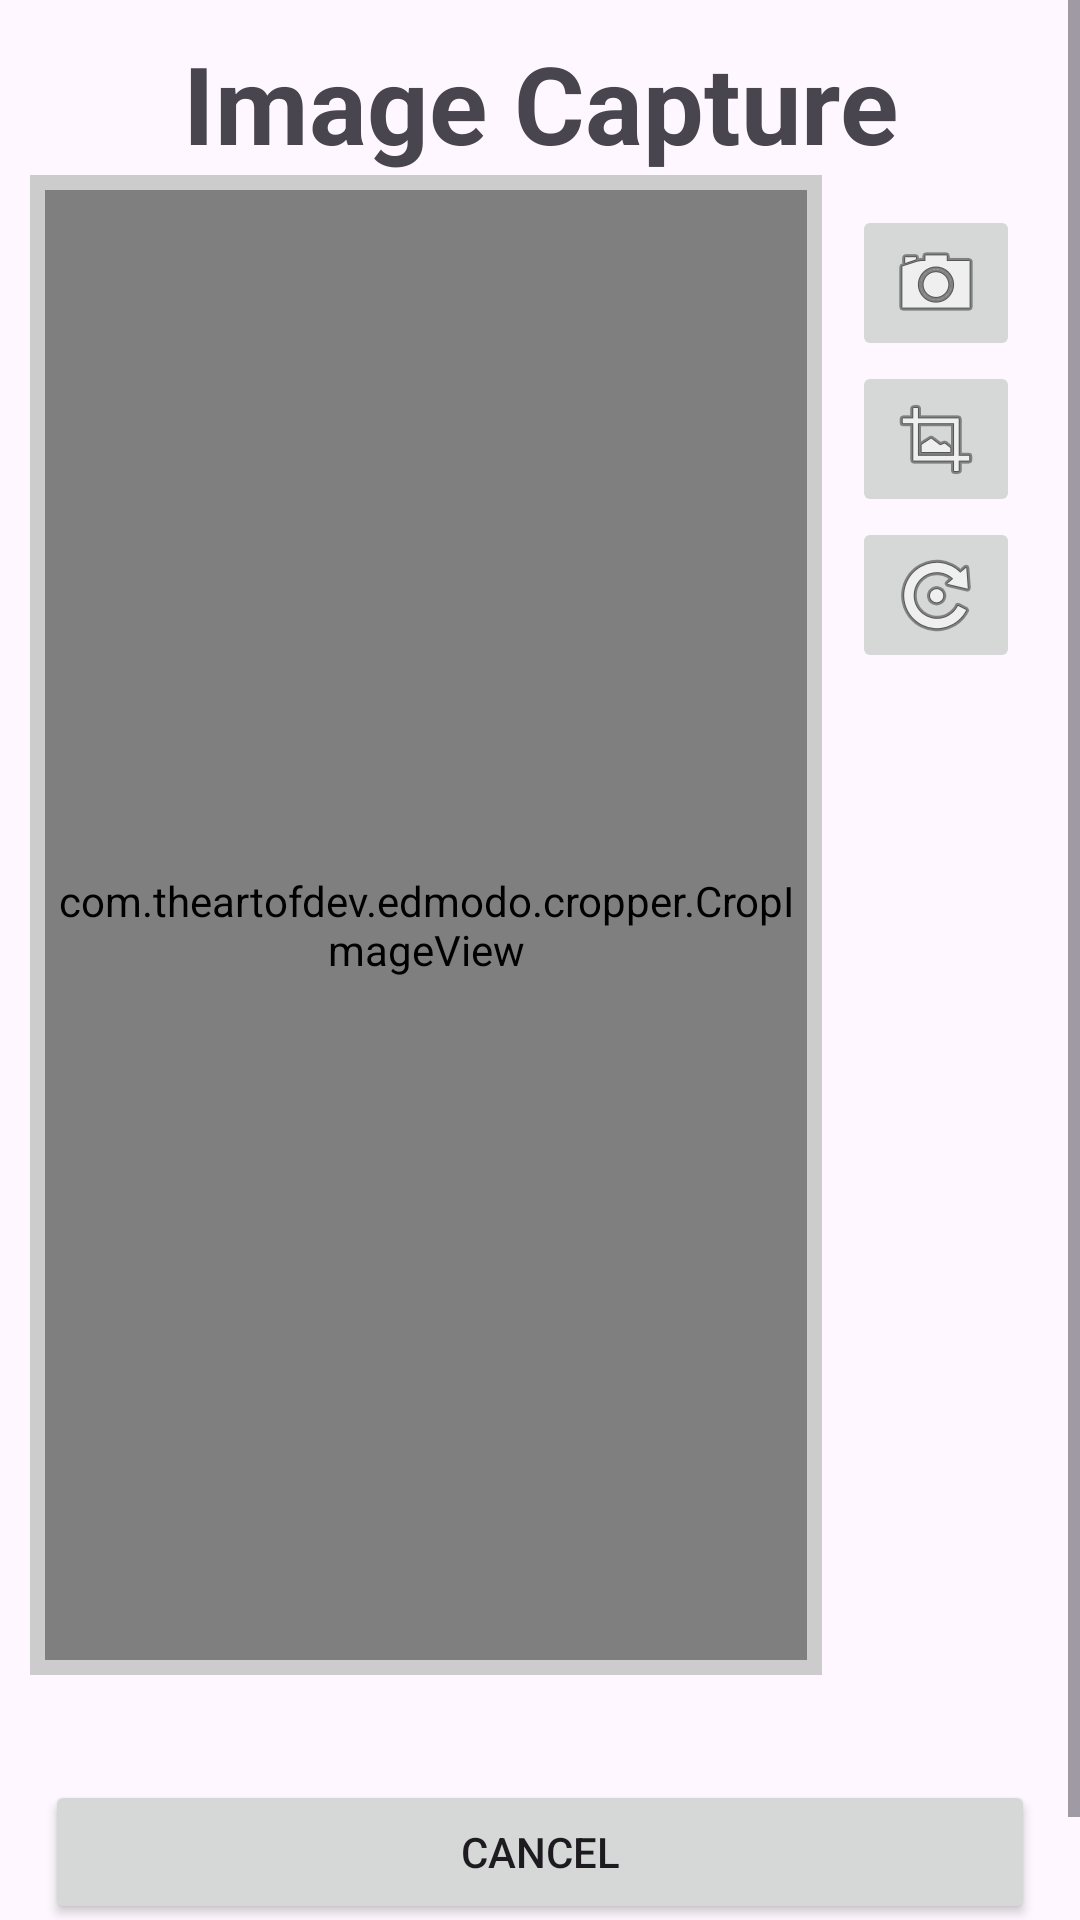

Locate icon controls on the screen. Image size 1080px x 1920px, boxes as (x1,y1,x2,y2).
camera: (864,223,1008,343)
rotate: (864,535,1008,655)
